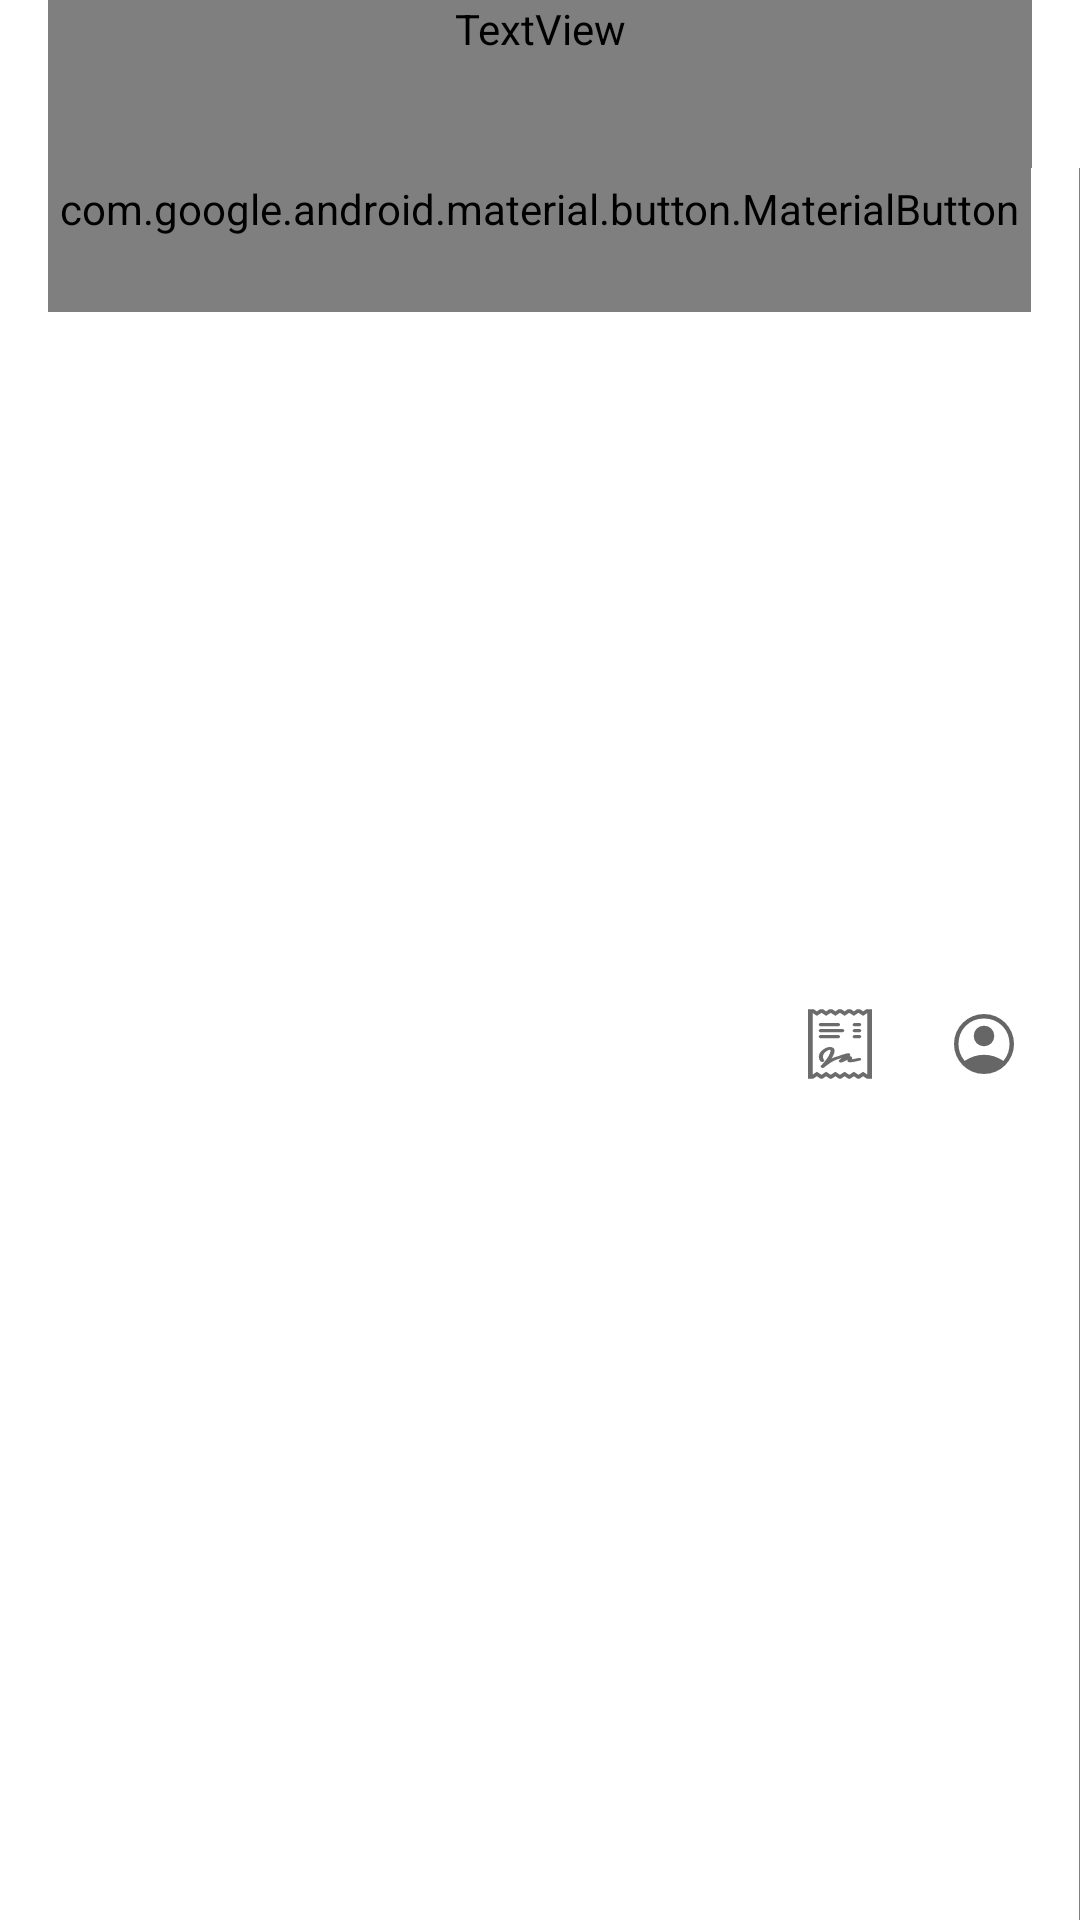

Locate icon controls on the screen. Image size 1080×1920, boxes as bbox=[x1, y1, x2, y2].
account circle: bbox=[954, 1014, 1014, 1074]
